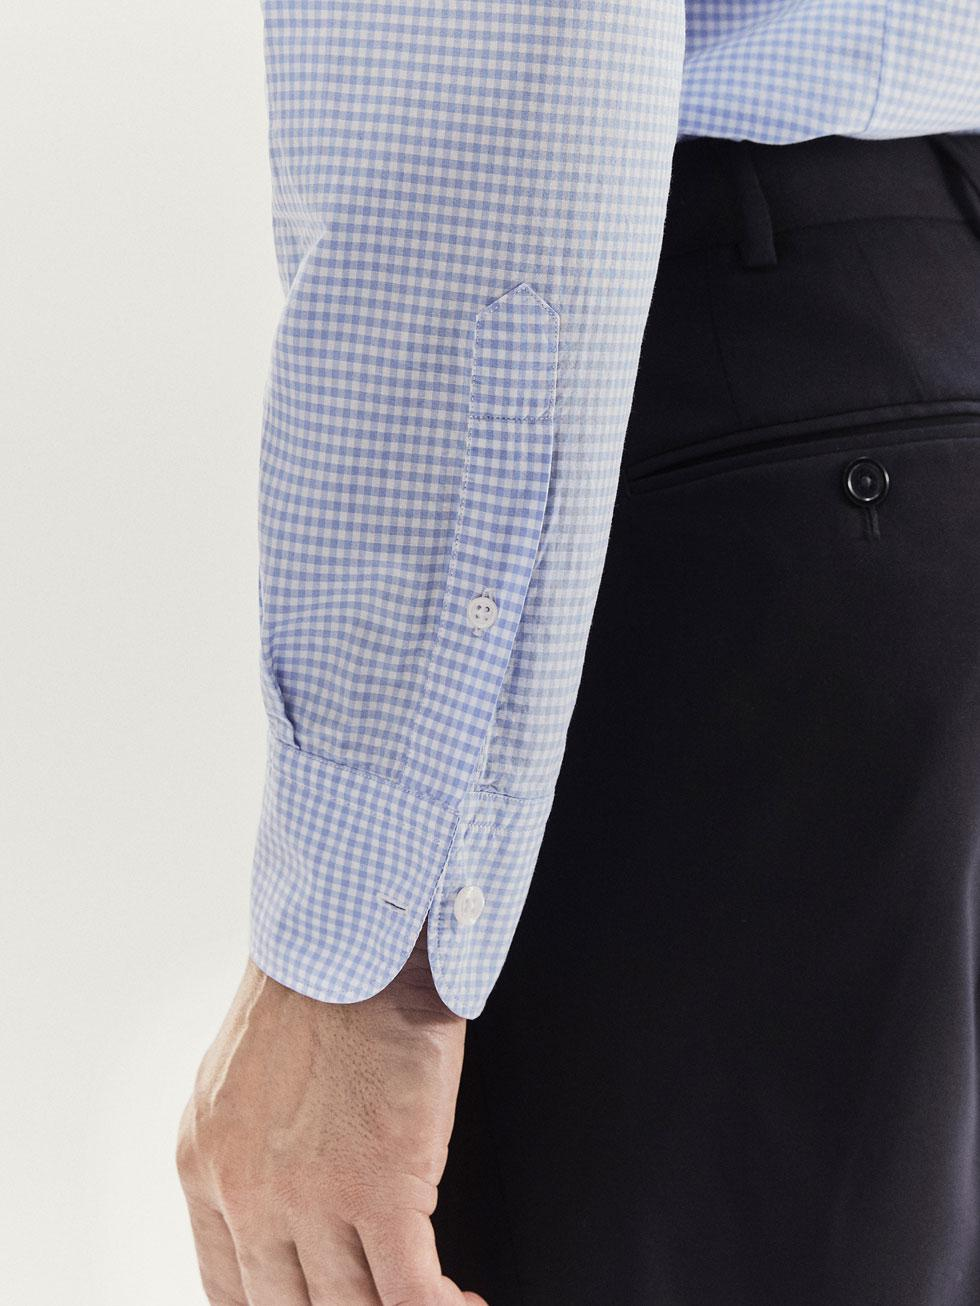teeshirt: (177, 1, 968, 1015)
